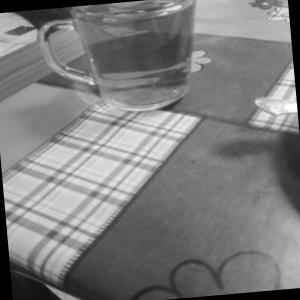tea: (59, 0, 212, 128)
